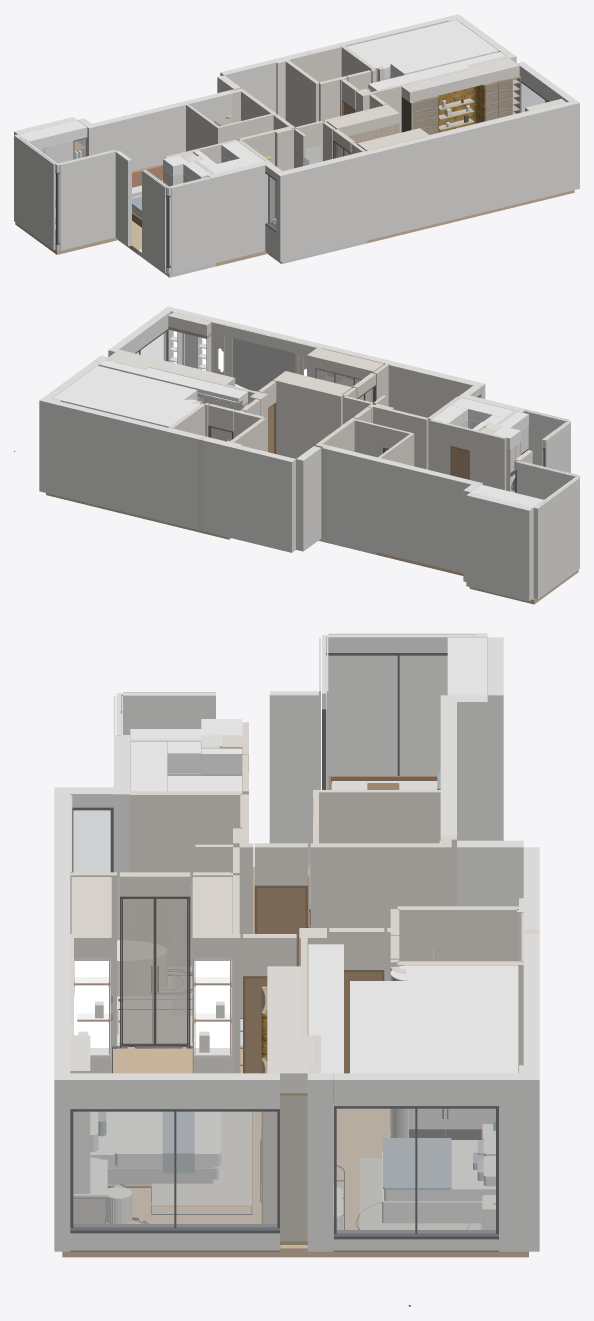
3 views of the same model, one above another, from view 1: azimuth 30°, elevation 25°; view 2: azimuth 150°, elevation 25°; view 3: azimuth 270°, elevation 25° (orthographic). The views are drawn at different scales.
Parts seen in each view (by area): view 1: 2F_Walls_Manifold_Batch_M3 (×2), 2F_Walls_Manifold_Batch_M4, 2F_NorthBed_HeadCove_Batch_M22, 2F_MBR_OppCab_SoffitBatch_M28, 2F_Slab_Batch_M0, 2F_MBR_Batch_M46, 2F_Walls_Manifold_Batch_M2, 2F_ChildTatami_SoffitBatch_M22, 2F_ChildWIC_Soffit_Batch_M22, 2F_WIC_N_Bulkhead_Batch_M4, 2F_NorthBed_OppCab_CeilingCoveBatch_M22, 2F_MBR_Batch_M29 (+17 smaller); view 2: 2F_Walls_Manifold_Batch_M3 (×2), 2F_Walls_Manifold_Batch_M4, 2F_NorthBed_HeadCove_Batch_M22, 2F_MBR_Batch_M39, 2F_ChildWIC_Soffit_Batch_M22, 2F_MBR_OppCab_SoffitBatch_M28, 2F_MBR_HeadWall_SoffitBatch_M28, 2F_WIC_S_Bulkhead_Batch_M4, 2F_NorthBed_OppCab_CeilingCoveBatch_M22, 2F_Slab_Batch_M0, 2F_MBR_Batch_M28, 2F_MBR_Batch_M18 (+10 smaller); view 3: 2F_Walls_Manifold_Batch_M3 (×2), 2F_Walls_Manifold_Batch_M2, 2F_Walls_Manifold_Batch_M4, 2F_NorthBed_HeadCove_Batch_M22, 2F_Slab_Batch_M0, 2F_Walls_Manifold_Batch_M5, 2F_MBR_Batch_M16, 2F_MBR_Batch_M29, 2F_WIC_Batch_M36, 2F_ChildWIC_Soffit_Batch_M22, 2F_MasterBed_Batch_M38, 2F_MBR_OppCab_SoffitBatch_M28 (+28 smaller).
Boxes of the visible parts, left/top/right/bottom form: 2F_Walls_Manifold_Batch_M3 (×2): left=14, top=14, right=579, bottom=273; 2F_Walls_Manifold_Batch_M4: left=164, top=46, right=509, bottom=217; 2F_NorthBed_HeadCove_Batch_M22: left=362, top=20, right=498, bottom=77; 2F_MBR_OppCab_SoffitBatch_M28: left=401, top=58, right=519, bottom=102; 2F_Slab_Batch_M0: left=15, top=190, right=574, bottom=266; 2F_MBR_Batch_M46: left=438, top=85, right=485, bottom=132; 2F_Walls_Manifold_Batch_M2: left=55, top=83, right=546, bottom=265; 2F_ChildTatami_SoffitBatch_M22: left=18, top=120, right=87, bottom=149; 2F_ChildWIC_Soffit_Batch_M22: left=193, top=141, right=264, bottom=173; 2F_WIC_N_Bulkhead_Batch_M4: left=327, top=108, right=397, bottom=135; 2F_NorthBed_OppCab_CeilingCoveBatch_M22: left=368, top=52, right=505, bottom=91; 2F_MBR_Batch_M29: left=410, top=78, right=520, bottom=130; 2F_Walls_Manifold_Batch_M3 (×2): left=39, top=306, right=579, bottom=601; 2F_Walls_Manifold_Batch_M4: left=105, top=357, right=517, bottom=539; 2F_NorthBed_HeadCove_Batch_M22: left=53, top=365, right=197, bottom=423; 2F_MBR_Batch_M39: left=234, top=338, right=294, bottom=391; 2F_ChildWIC_Soffit_Batch_M22: left=432, top=397, right=514, bottom=430; 2F_MBR_OppCab_SoffitBatch_M28: left=109, top=349, right=235, bottom=386; 2F_MBR_HeadWall_SoffitBatch_M28: left=211, top=322, right=317, bottom=355; 2F_WIC_S_Bulkhead_Batch_M4: left=315, top=349, right=383, bottom=379; 2F_NorthBed_OppCab_CeilingCoveBatch_M22: left=99, top=360, right=244, bottom=402; 2F_Slab_Batch_M0: left=46, top=493, right=578, bottom=604; 2F_MBR_Batch_M28: left=211, top=333, right=306, bottom=377; 2F_MBR_Batch_M18: left=168, top=329, right=211, bottom=371; 2F_Walls_Manifold_Batch_M3 (×2): left=54, top=633, right=539, bottom=1251; 2F_Walls_Manifold_Batch_M2: left=73, top=655, right=495, bottom=1233; 2F_Walls_Manifold_Batch_M4: left=70, top=722, right=539, bottom=1073; 2F_NorthBed_HeadCove_Batch_M22: left=350, top=981, right=518, bottom=1073; 2F_Slab_Batch_M0: left=62, top=867, right=528, bottom=1257; 2F_Walls_Manifold_Batch_M5: left=70, top=653, right=498, bottom=1239; 2F_MBR_Batch_M16: left=90, top=1111, right=221, bottom=1223; 2F_MBR_Batch_M29: left=262, top=986, right=307, bottom=1241; 2F_WIC_Batch_M36: left=74, top=961, right=231, bottom=1047; 2F_ChildWIC_Soffit_Batch_M22: left=130, top=742, right=241, bottom=791; 2F_MasterBed_Batch_M38: left=151, top=1111, right=251, bottom=1206; 2F_MBR_OppCab_SoffitBatch_M28: left=267, top=966, right=314, bottom=1093.
Size of the model in its own units: 17.75 by 2.98 by 7.26.
59 materials, 7 textured.
